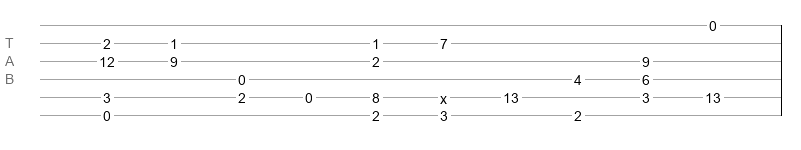0: (103, 108, 111, 118), (238, 72, 246, 82), (305, 90, 313, 100), (709, 18, 717, 28)
1: (170, 36, 178, 46), (372, 36, 380, 46)
12: (99, 54, 115, 64)
13: (503, 90, 519, 100), (705, 90, 721, 100)
2: (103, 36, 111, 46), (238, 90, 246, 100), (372, 108, 380, 118), (372, 54, 380, 64), (574, 108, 582, 118)
3: (103, 90, 111, 100), (440, 108, 448, 118), (642, 90, 650, 100)
4: (574, 72, 582, 82)
6: (642, 72, 650, 82)
7: (440, 36, 448, 46)
8: (372, 90, 380, 100)
9: (170, 54, 178, 64), (642, 54, 650, 64)
x: (440, 91, 447, 99)
